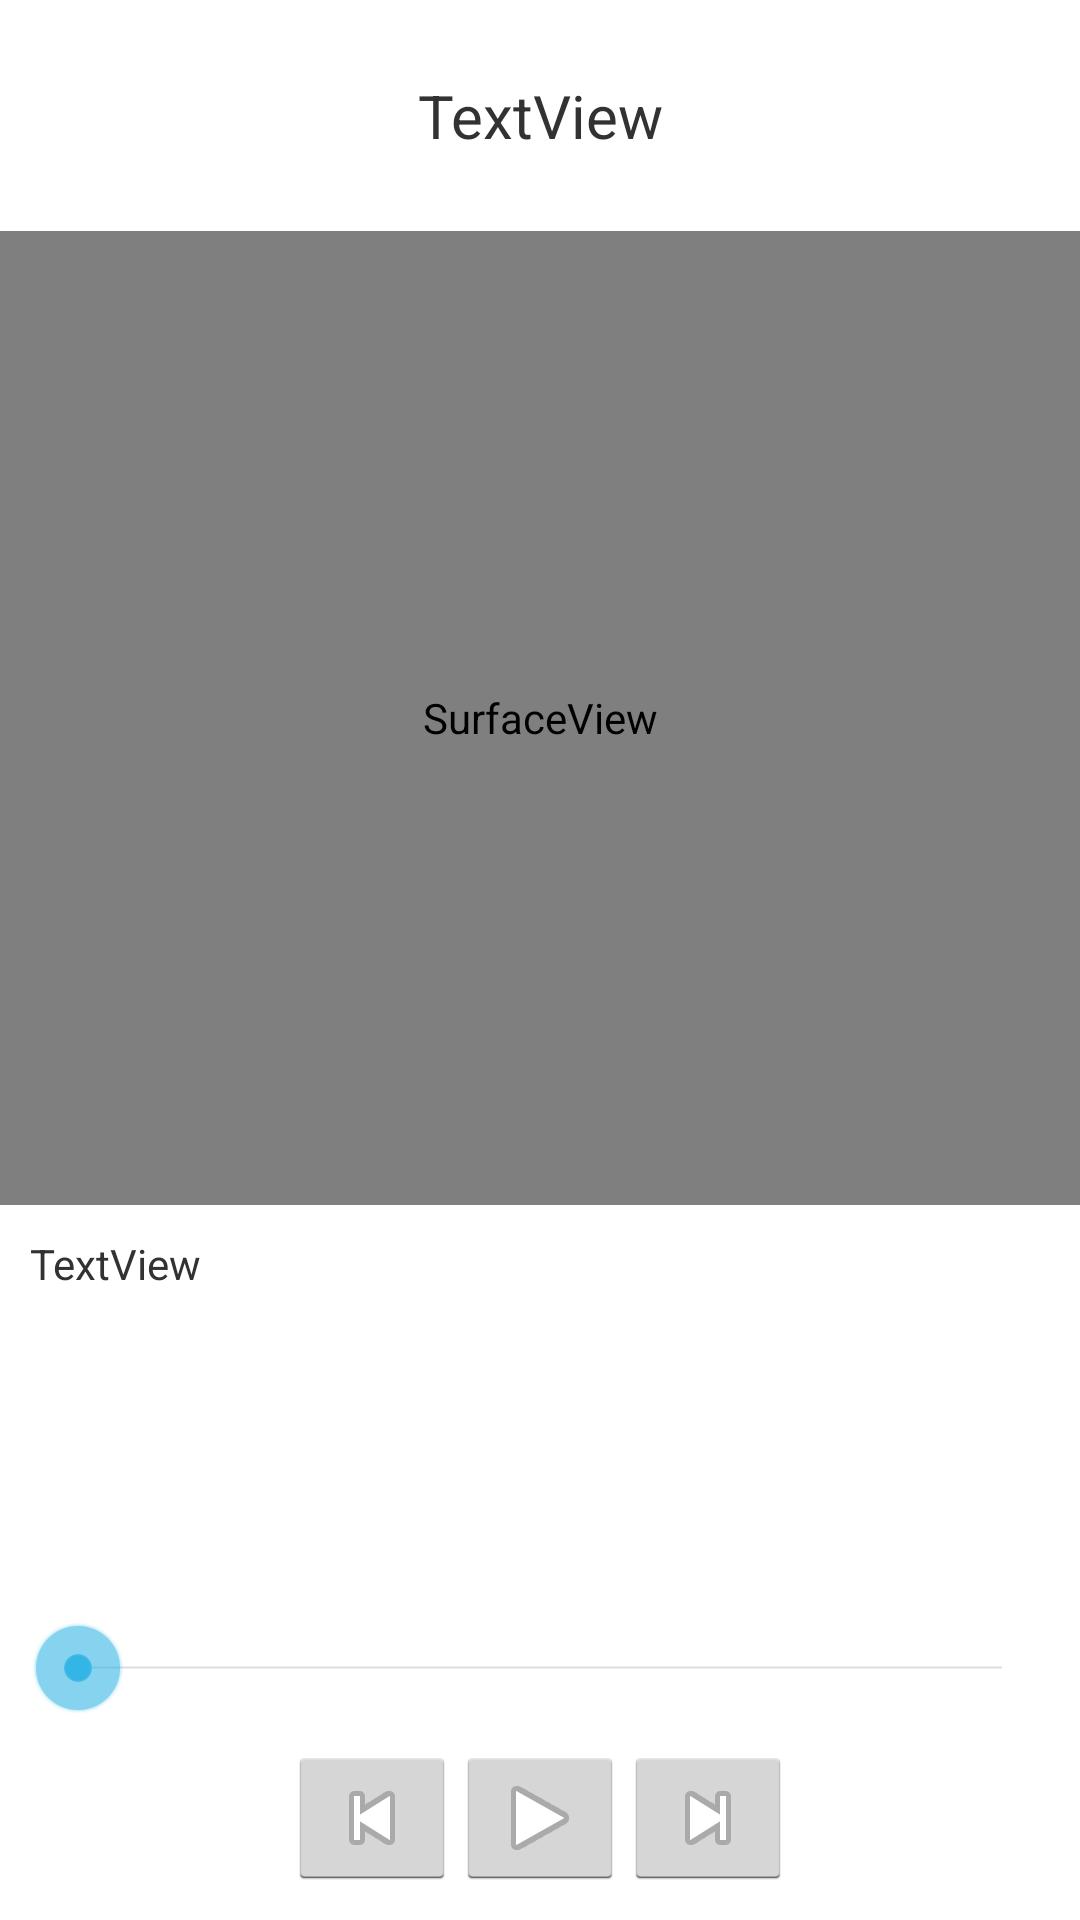

Where icons sit on this 1080px x 1920px app screen, as region(x1, y1, x2, y2):
next: region(636, 1759, 780, 1879)
play: region(468, 1759, 612, 1879)
previous: region(300, 1759, 444, 1879)
